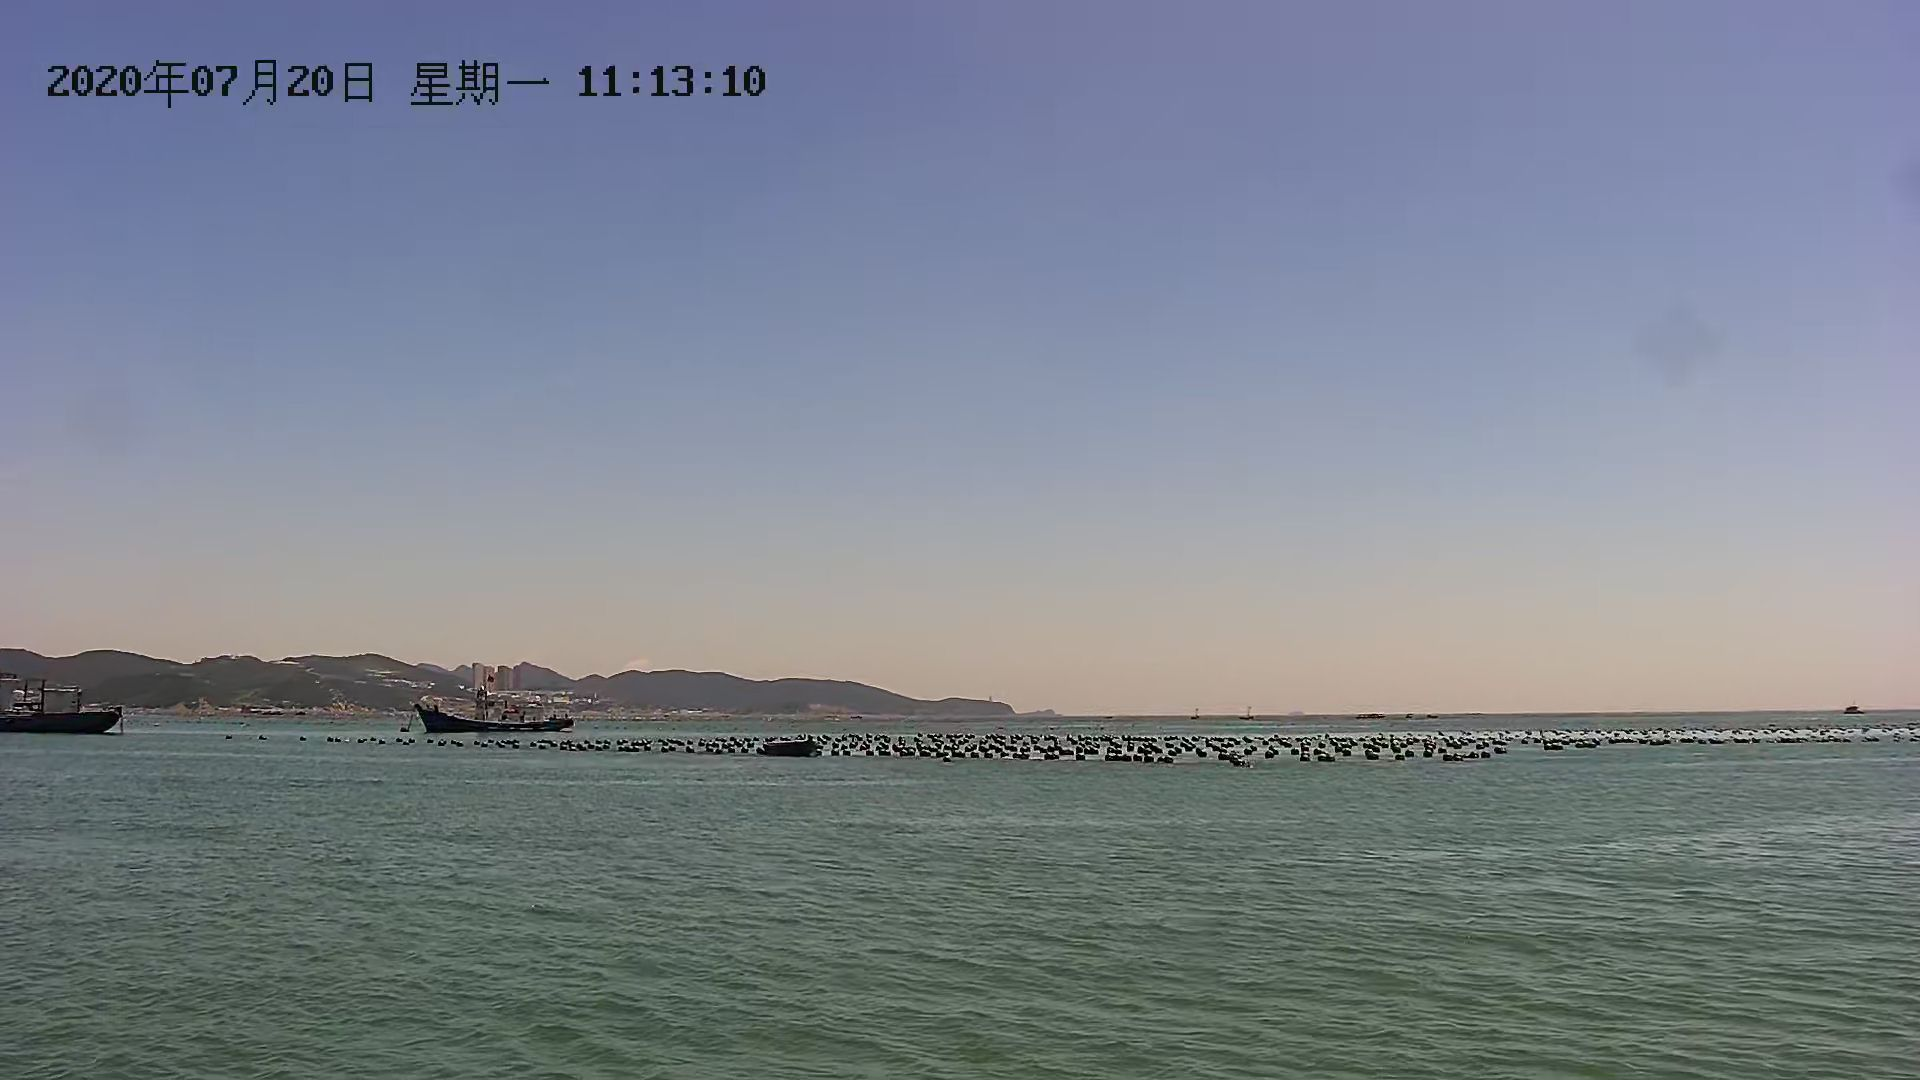boat: (1, 680, 148, 745), (419, 698, 571, 732), (752, 725, 832, 757)
rock: (1, 654, 1015, 731)
